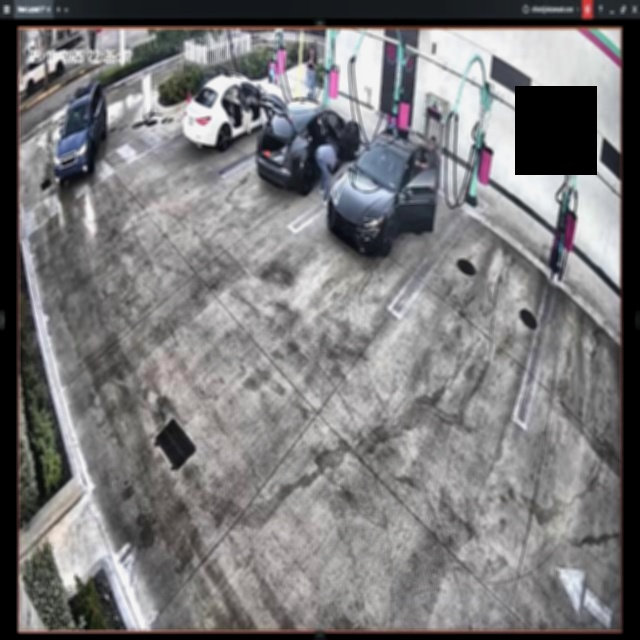Car: (328, 127, 438, 257), (259, 93, 359, 192), (183, 76, 284, 153)
